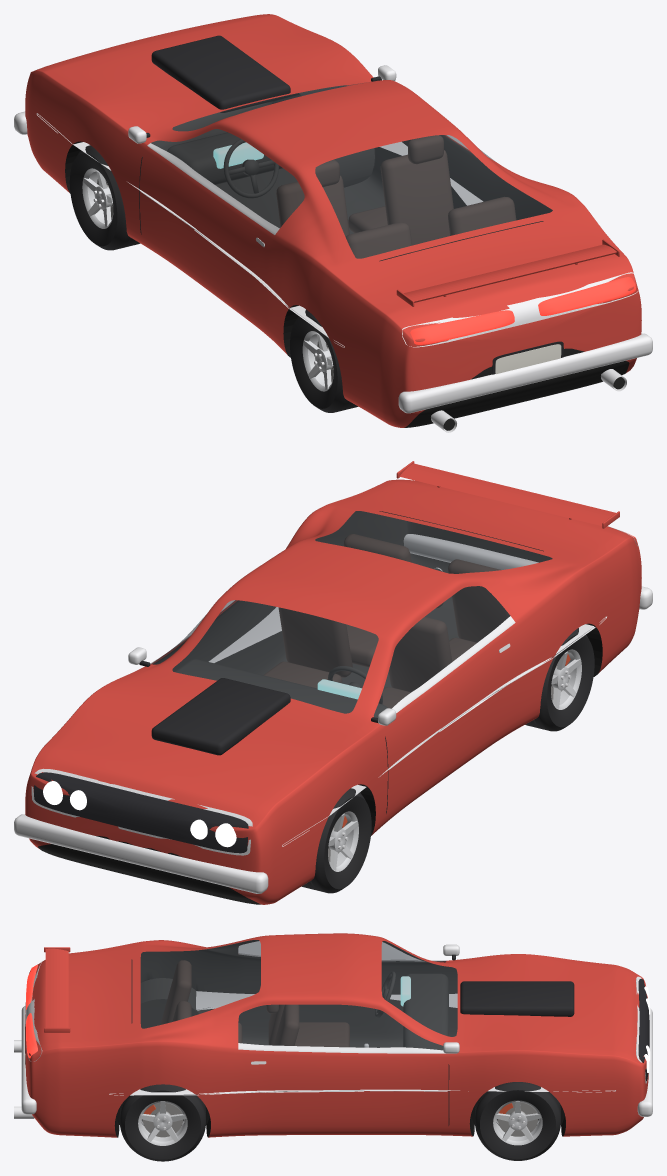
The model's file is Thunderhoof.glb.
3 views of the same model, one above another, from view 1: azimuth 30°, elevation 25°; view 2: azimuth 150°, elevation 25°; view 3: azimuth 270°, elevation 25° (orthographic). The views are drawn at different scales.
Visible parts, largest first — view 1: Thunderhoof_Body, Thunderhoof_Glass, Thunderhoof_Interior, Thunderhoof_Wheel_FL, Thunderhoof_Wheel_RL, Thunderhoof_Lights_Tail, Thunderhoof_Steering; view 2: Thunderhoof_Body, Thunderhoof_Glass, Thunderhoof_Interior, Thunderhoof_Wheel_FL, Thunderhoof_Wheel_RL, Thunderhoof_Lights_Head; view 3: Thunderhoof_Body, Thunderhoof_Glass, Thunderhoof_Interior, Thunderhoof_Wheel_FR, Thunderhoof_Wheel_RR, Thunderhoof_Lights_Tail.
Part boxes in pixels (x1,y1,x2,y2): Thunderhoof_Body: [14, 14, 652, 432]; Thunderhoof_Glass: [151, 83, 552, 258]; Thunderhoof_Interior: [151, 85, 552, 258]; Thunderhoof_Wheel_FL: [69, 145, 140, 250]; Thunderhoof_Wheel_RL: [290, 309, 358, 412]; Thunderhoof_Lights_Tail: [410, 277, 635, 344]; Thunderhoof_Steering: [223, 139, 278, 198]; Thunderhoof_Body: [14, 461, 652, 904]; Thunderhoof_Glass: [152, 511, 552, 717]; Thunderhoof_Interior: [153, 511, 600, 717]; Thunderhoof_Wheel_FL: [301, 788, 371, 893]; Thunderhoof_Wheel_RL: [525, 628, 594, 731]; Thunderhoof_Lights_Head: [43, 781, 236, 847]; Thunderhoof_Body: [14, 933, 652, 1137]; Thunderhoof_Glass: [141, 940, 457, 1049]; Thunderhoof_Interior: [118, 940, 474, 1134]; Thunderhoof_Wheel_FR: [475, 1082, 560, 1160]; Thunderhoof_Wheel_RR: [120, 1084, 205, 1161]; Thunderhoof_Lights_Tail: [26, 964, 37, 1058].
Bounding box in the file's own units: 1.98 × 1.33 × 5.04.
